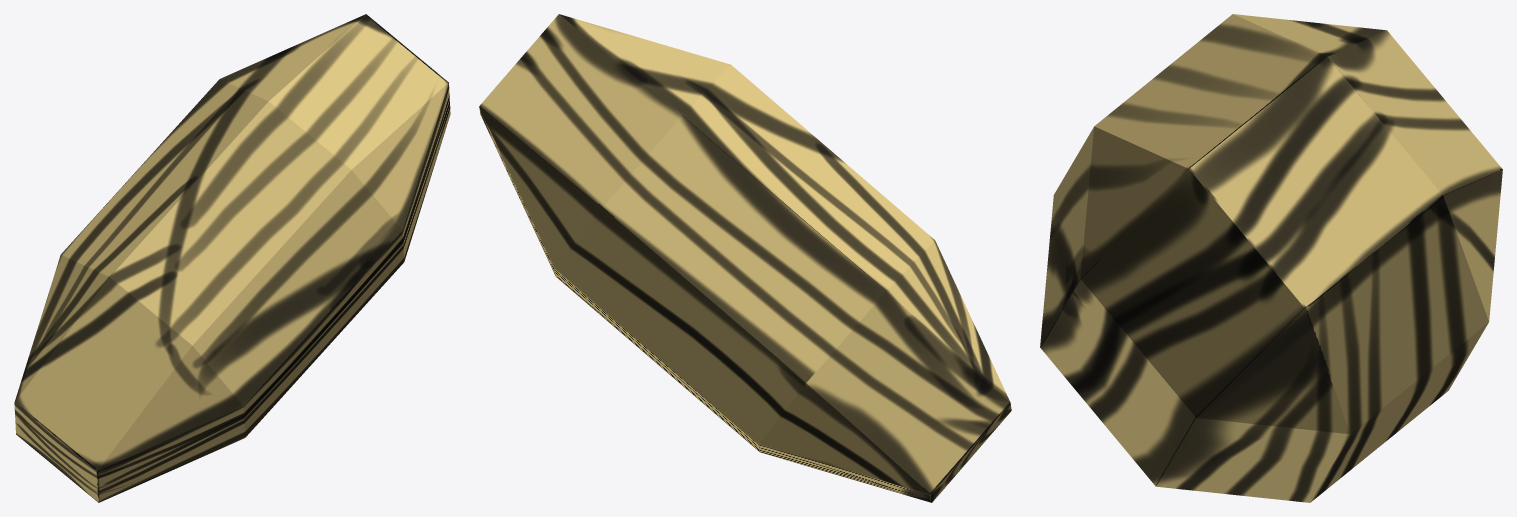
The model's file is tamal.glb.
The picture shows the model from 3 angles, left to right: view 1: azimuth 30°, elevation 25°; view 2: azimuth 150°, elevation 25°; view 3: azimuth 270°, elevation 25°; orthographic projection. The views are drawn at different scales.
Visible parts, largest first — view 1: Cube; view 2: Cube; view 3: Cube.
Part boxes in pixels (<box>): Cube: <box>14,14,450,502</box>; Cube: <box>479,14,1011,502</box>; Cube: <box>1040,14,1502,502</box>.
Bounding box in the file's own units: 2.7 × 2.21 × 1.43.
Materials: 1 (1 with a texture image).
